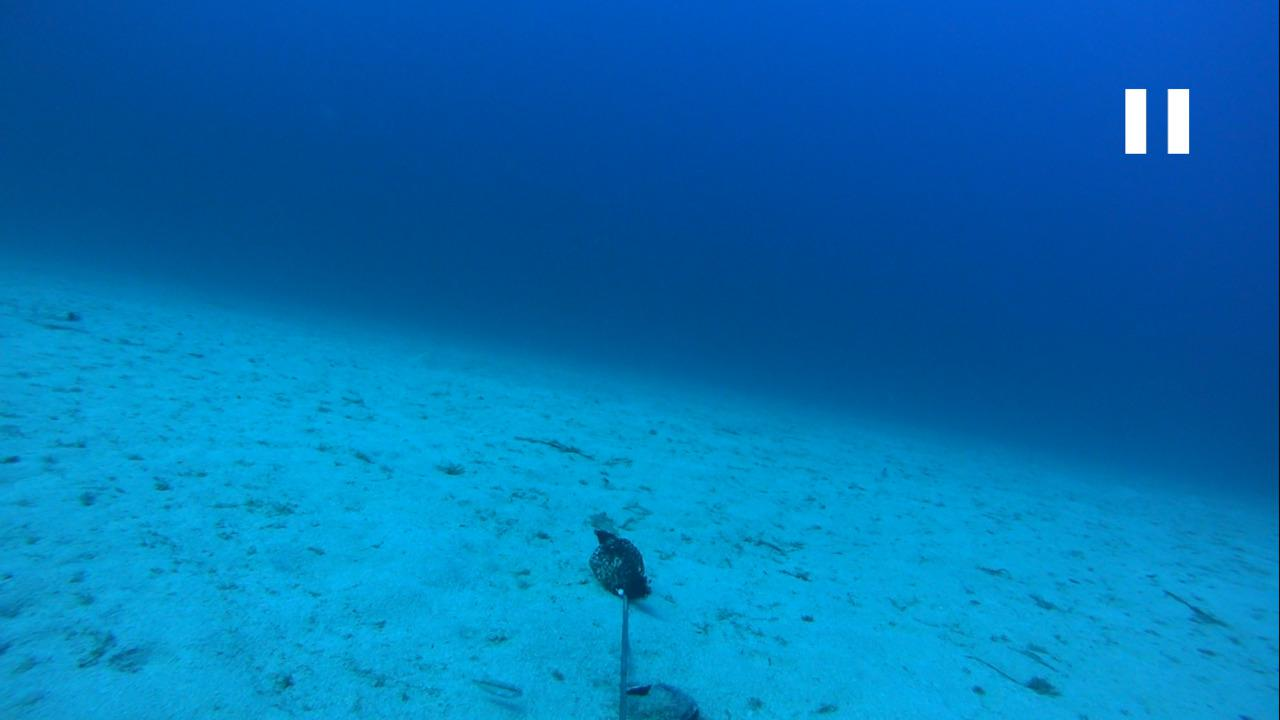dactylopterus: (1, 292, 84, 336)
